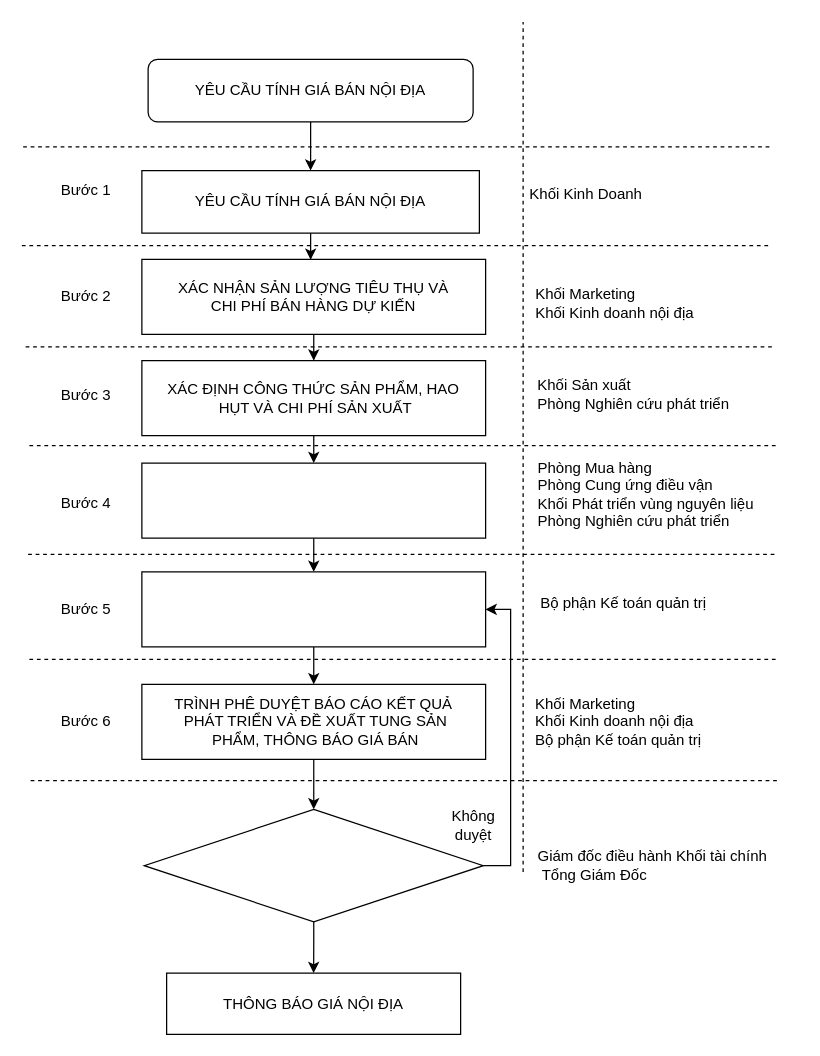
Some shapes in this 820 by 1056 pixel diagram are drawn without their labels. The box of each missing label's shape, as (x1, y1, x2, y2) in pixels:
PHÊ DUYỆT: (143, 808, 483, 922)
TÍNH P/L VÀ XÁC ĐỊNH GIÁ BÁN SẢN PHẨM: (141, 571, 486, 647)
XÁC ĐỊNH GIÁ NGUYÊN VẬT LIỆU, CHI PHÍ KHÁC: (141, 462, 486, 538)
